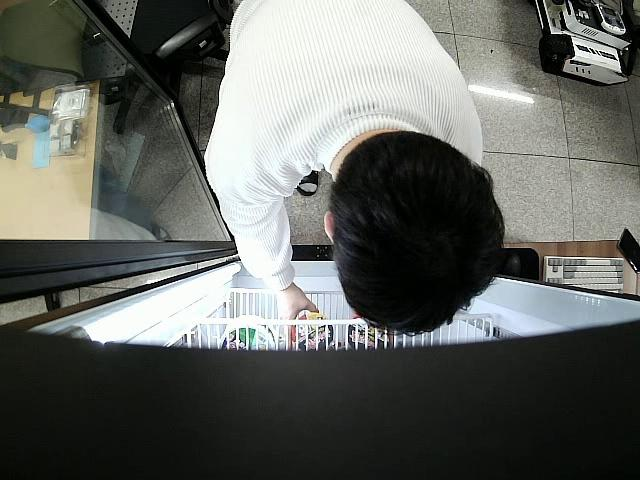00_hand: (277, 286, 321, 341)
08_buldak_S: (291, 311, 332, 349), (349, 316, 389, 349)
